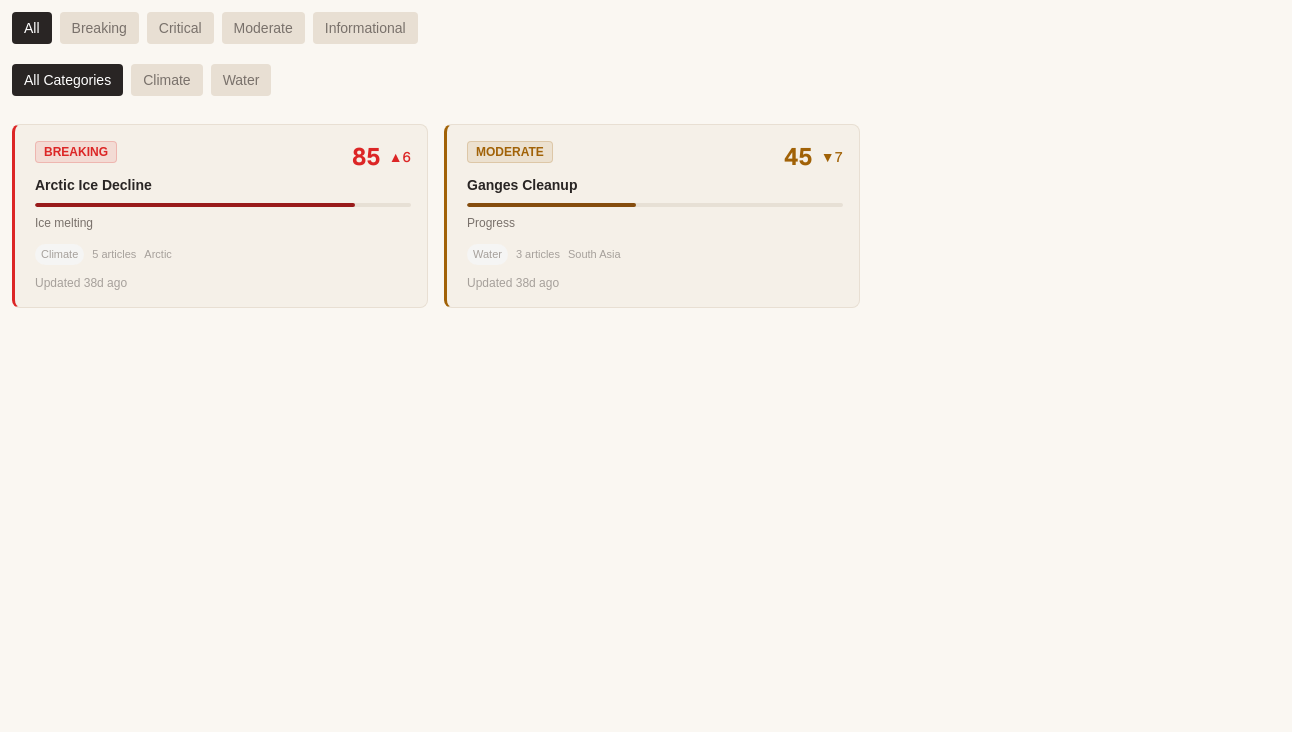
Test case: TopicGrid › 'Clear filters' resets both urgency and category
Expected: the heading "Arctic Ice Decline" is shown, [35,177,152,193]
# Select water category
What coordinates should you click on to do the following:
click the button with test id "filter-category-water"
I would click on:
 (241, 80)
Its box is [211,64,271,96].
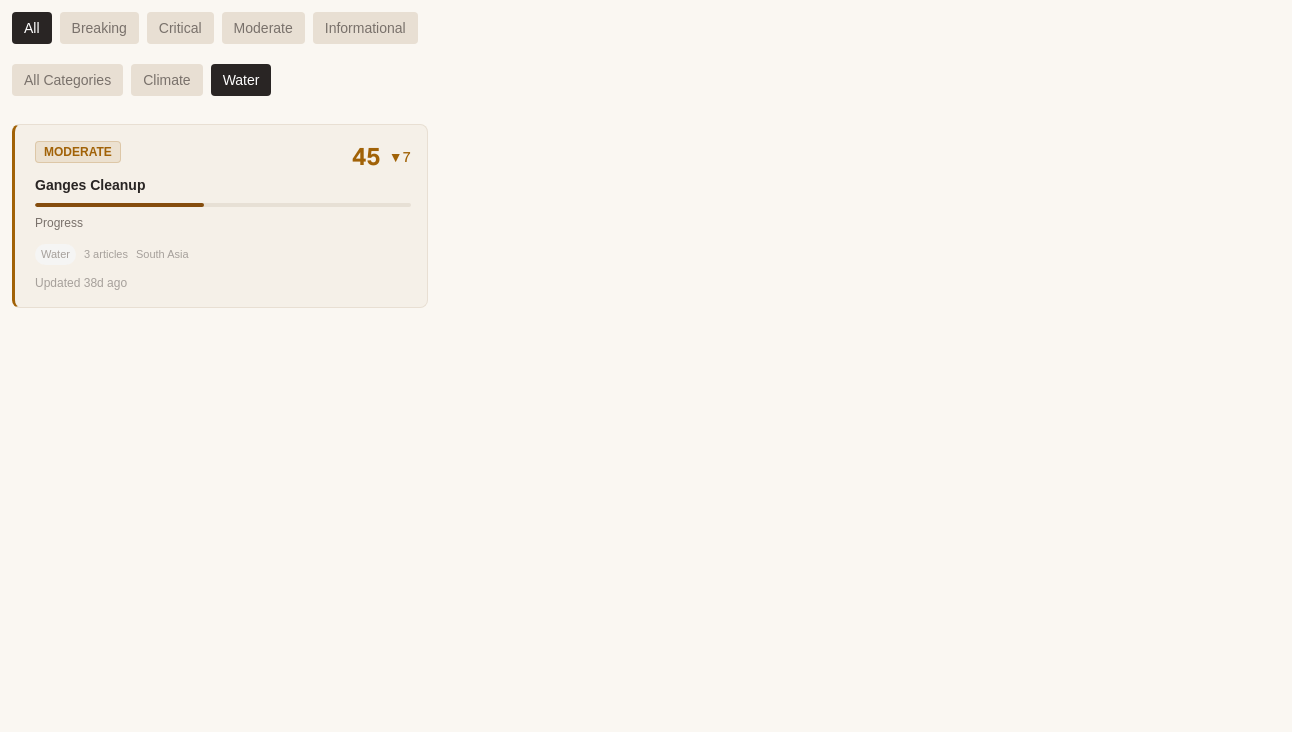
Expected: the heading "Ganges Cleanup" is shown, [35,177,146,193]
Expected: the link "Arctic Ice Decline" is gone
What coordinates should you click on to do the following:
click the button with test id "filter-breaking"
I would click on:
 (99, 28)
Its box is [60,12,139,44].
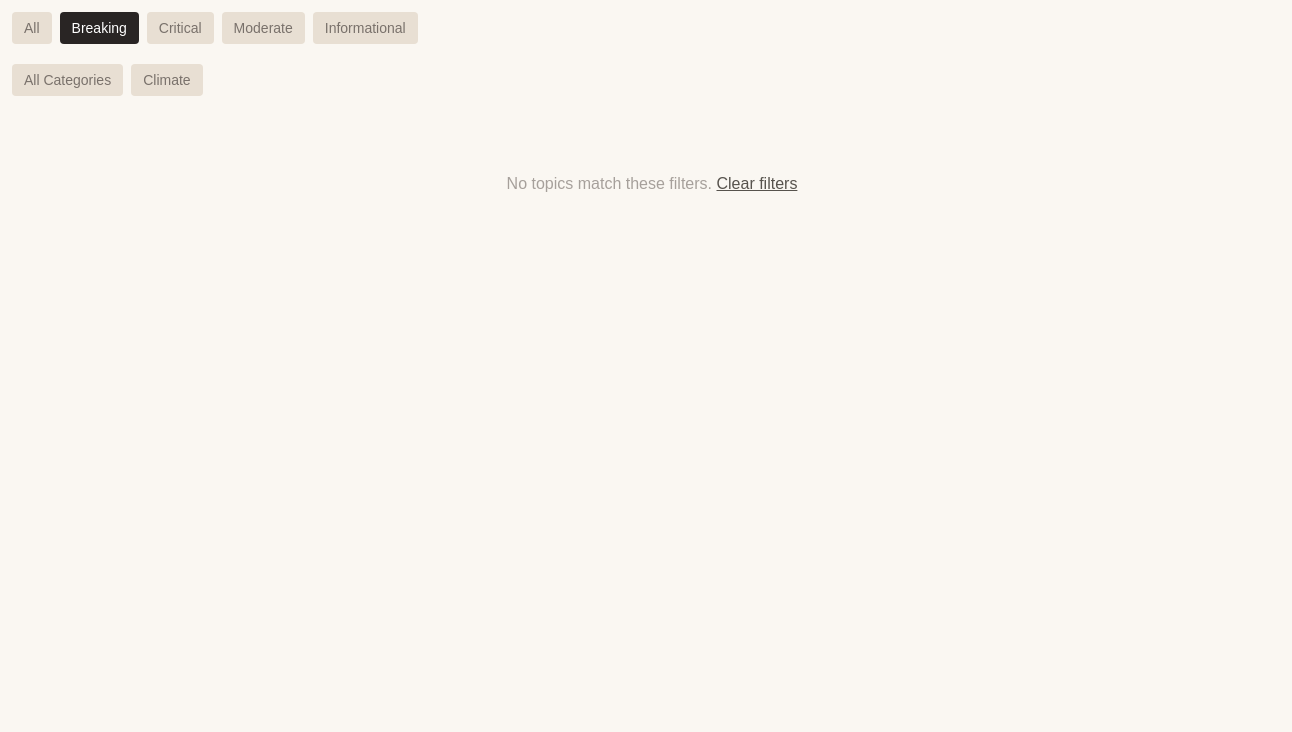
Expected: the element with test id "no-matches" is shown, [507,172,797,196]
What coordinates should you click on to do the following:
click the button with test id "clear-filters"
I would click on:
 (757, 184)
Its box is [716,172,797,196].
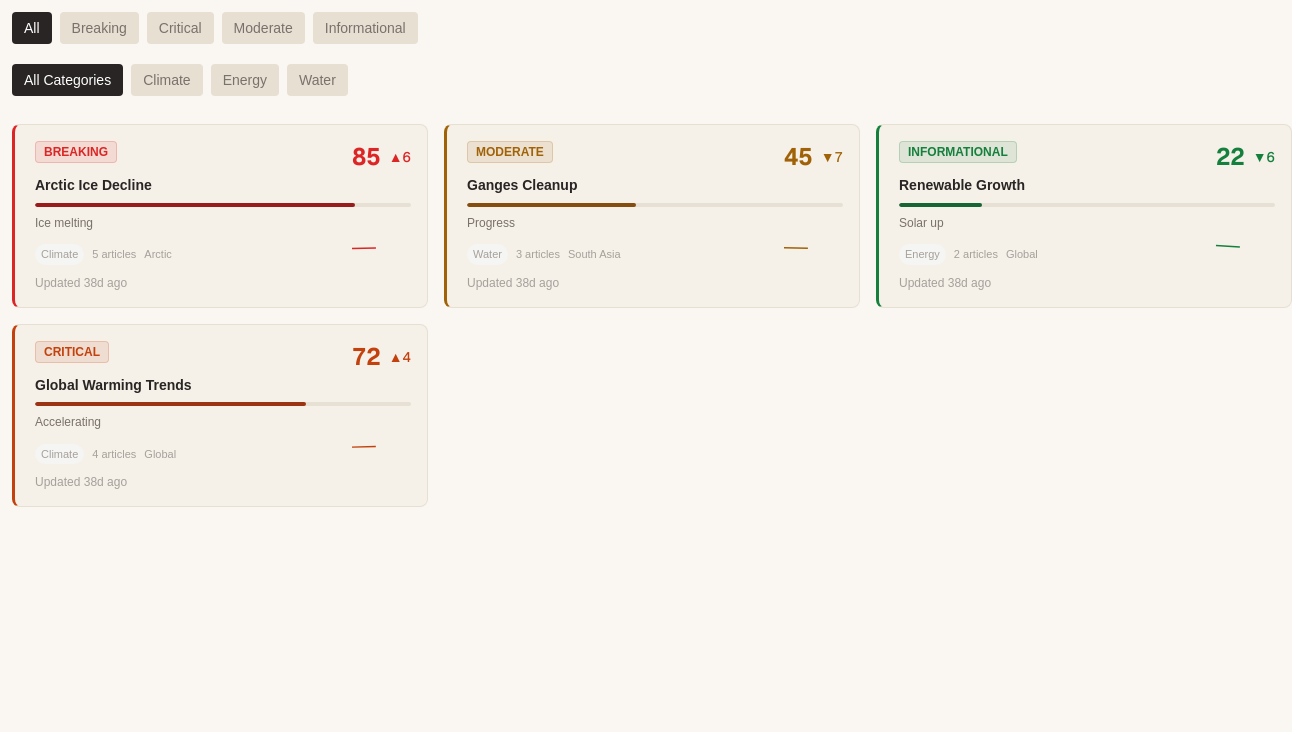
Expected: the heading "Arctic Ice Decline" is shown, [35,177,152,193]
Expected: the heading "Ganges Cleanup" is shown, [467,177,578,193]
